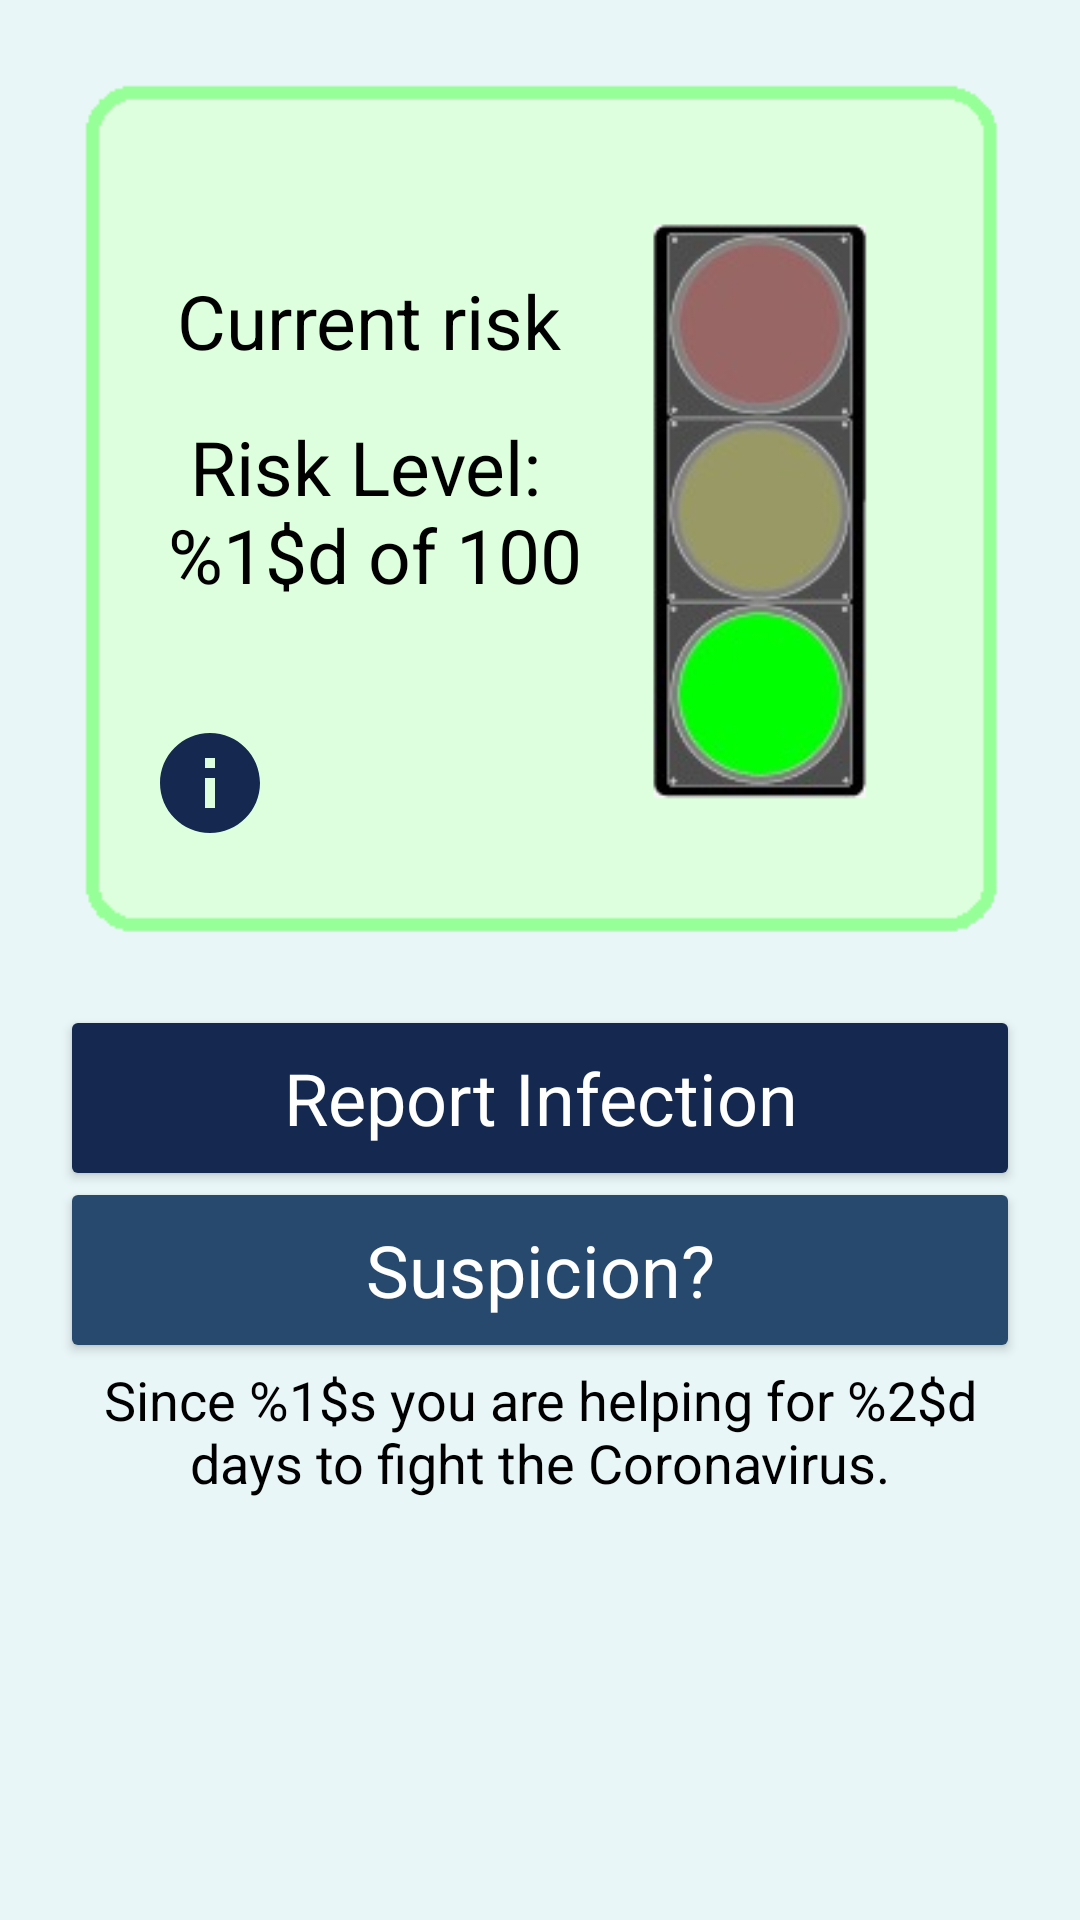

Icon bounding boxes for this 1080×1920 phone screenshot, format (x1, y1, x2, y2):
risklevel info: (160, 733, 260, 833)
